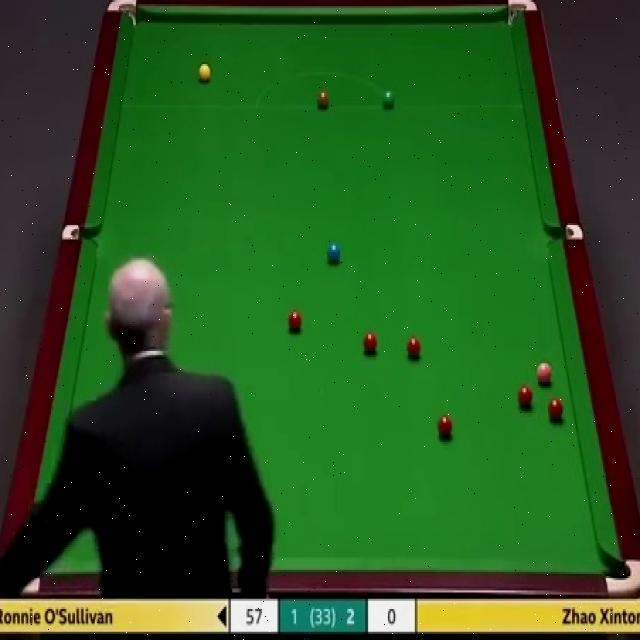blue-ball: (328, 239, 342, 266)
brown-ball: (316, 90, 331, 108)
green-ball: (381, 87, 396, 110)
pink-ball: (536, 363, 555, 385)
red-ball: (435, 416, 454, 442), (363, 330, 378, 357), (405, 336, 422, 359), (548, 400, 564, 423), (518, 384, 532, 409), (287, 308, 302, 330)
yellow-ball: (199, 64, 211, 84)
